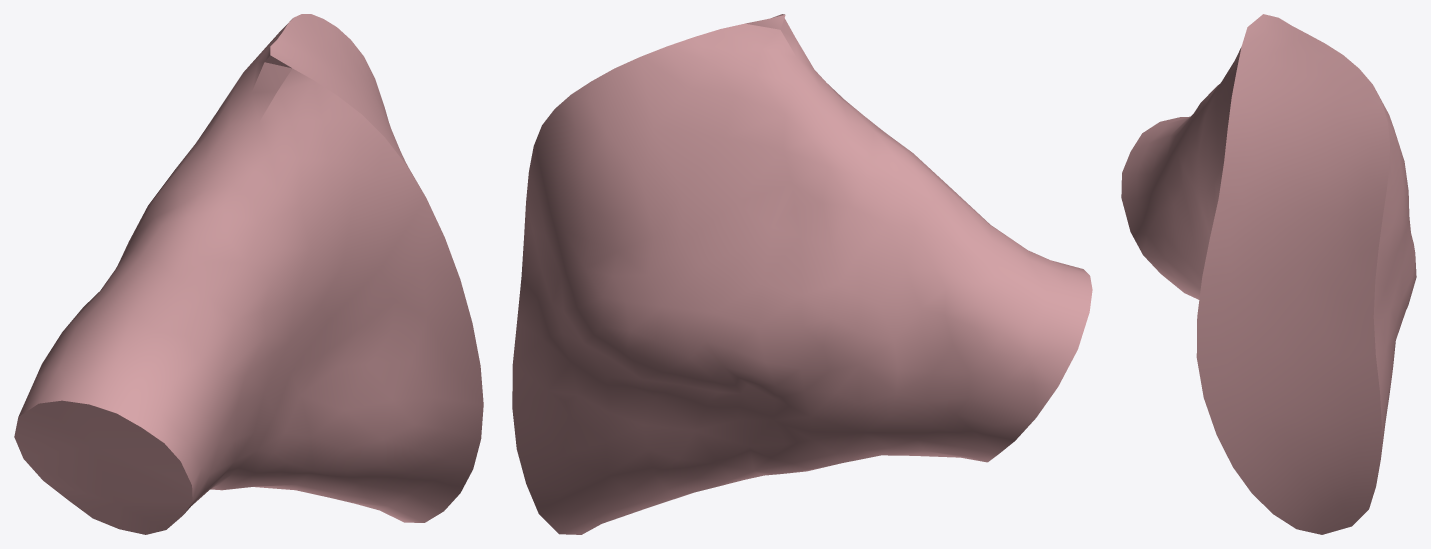
Rendered from fma78470-r_mm3110m.glb.
3 renders of one model, left to right at view 1: azimuth 30°, elevation 25°; view 2: azimuth 150°, elevation 25°; view 3: azimuth 270°, elevation 25°, orthographic. The views are drawn at different scales.
Parts seen in each view (by area): view 1: FMA78470-R_MM3110M; view 2: FMA78470-R_MM3110M; view 3: FMA78470-R_MM3110M.
Boxes of the visible parts, x1,y1,x2,y2 form: FMA78470-R_MM3110M: (14,14,483,534); FMA78470-R_MM3110M: (512,14,1092,534); FMA78470-R_MM3110M: (1121,14,1416,534).
Size of the model in its own units: 0.00637 by 0.00685 by 0.00406.
